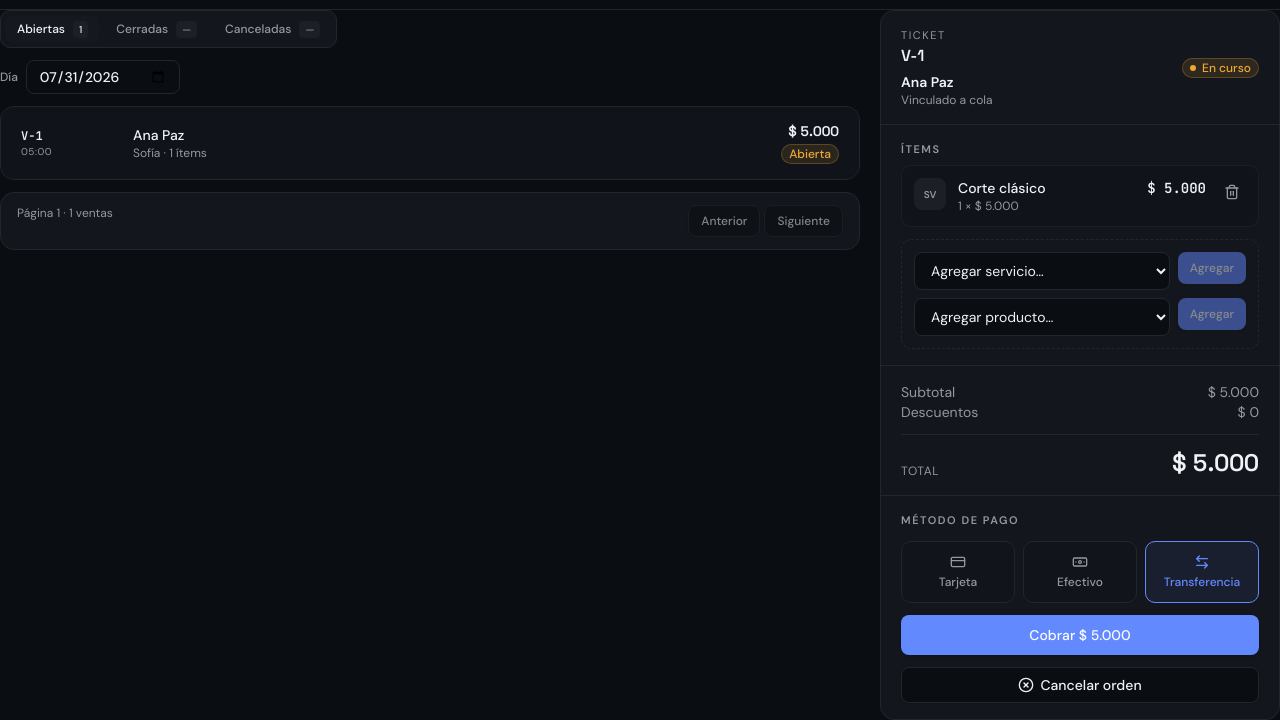
Test: SalesView › opens the cancel order dialog and blocks an empty reason
The width and height of the screenshot is (1280, 720).
(page scrolled)
Click the button "Cancelar orden" at (1080, 685), box [901, 667, 1259, 703]
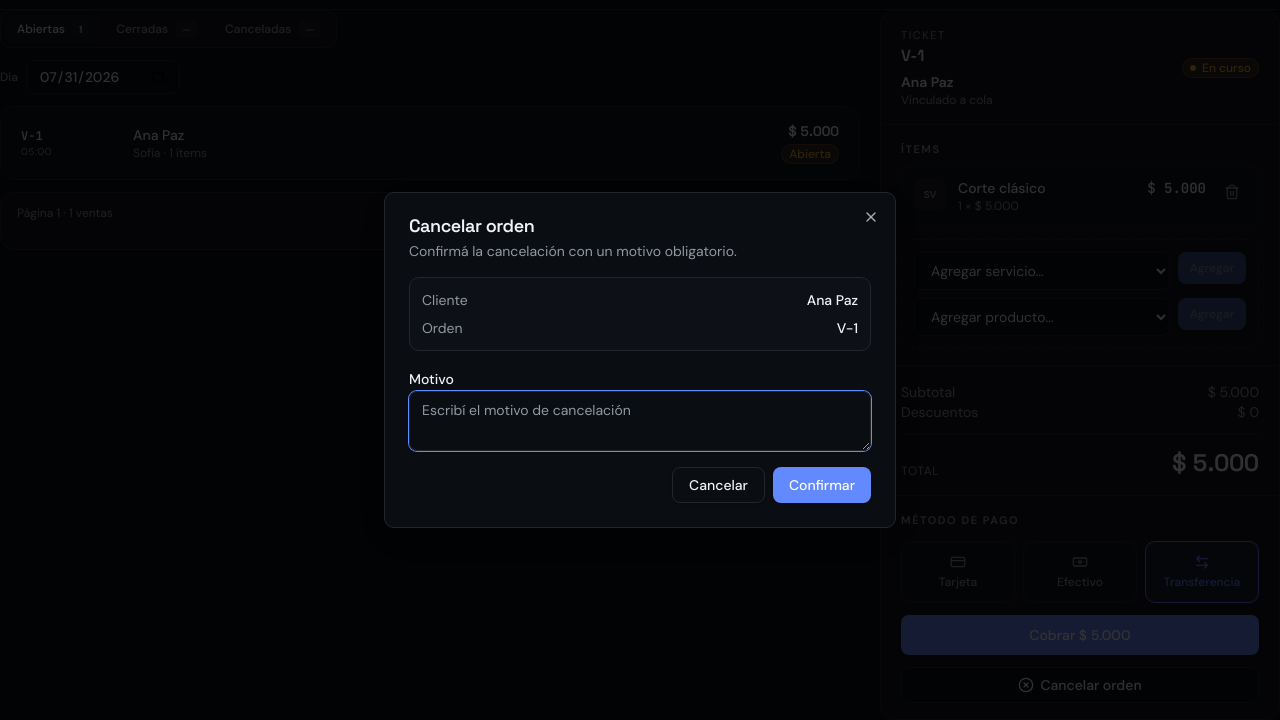
Expected: the text "Ana Paz" is shown, [807, 290, 858, 310]
Expected: the text "V-1" is shown, [837, 318, 858, 338]
Click the button "Confirmar" at (822, 485), box [773, 467, 871, 503]
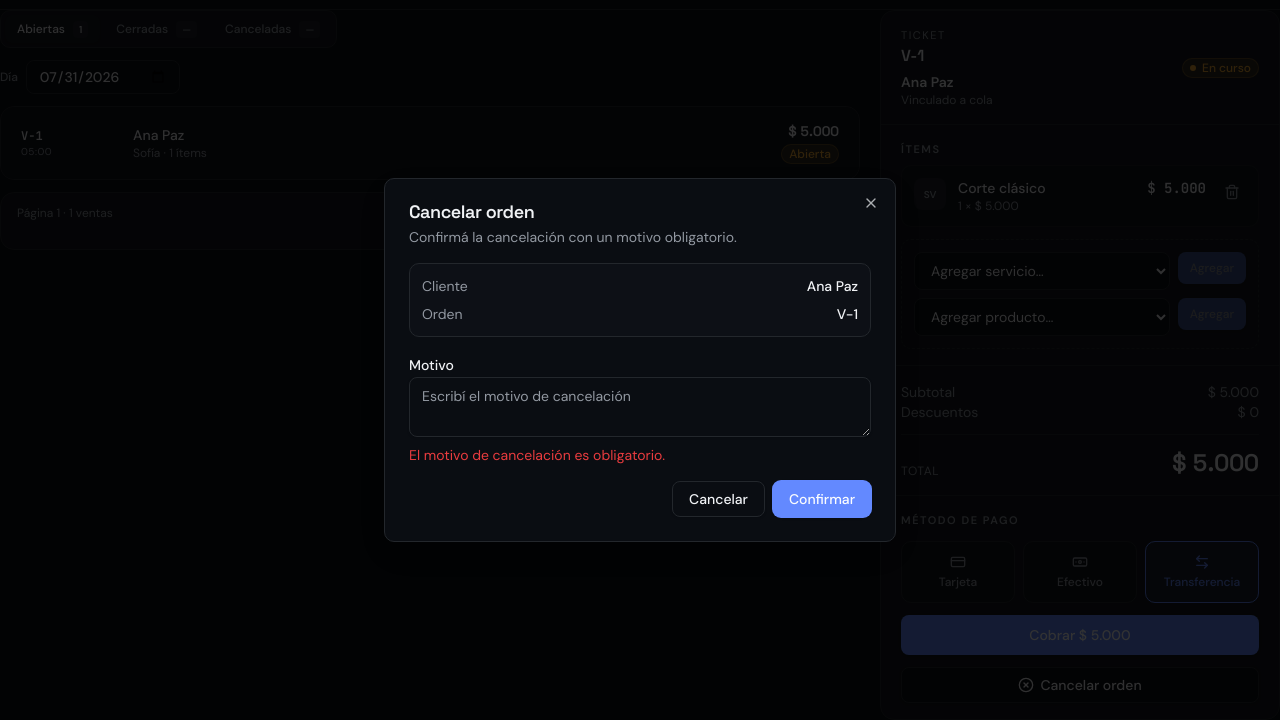
Expected: the message reads "El motivo de cancelación es obligatorio.", [409, 446, 665, 464]
